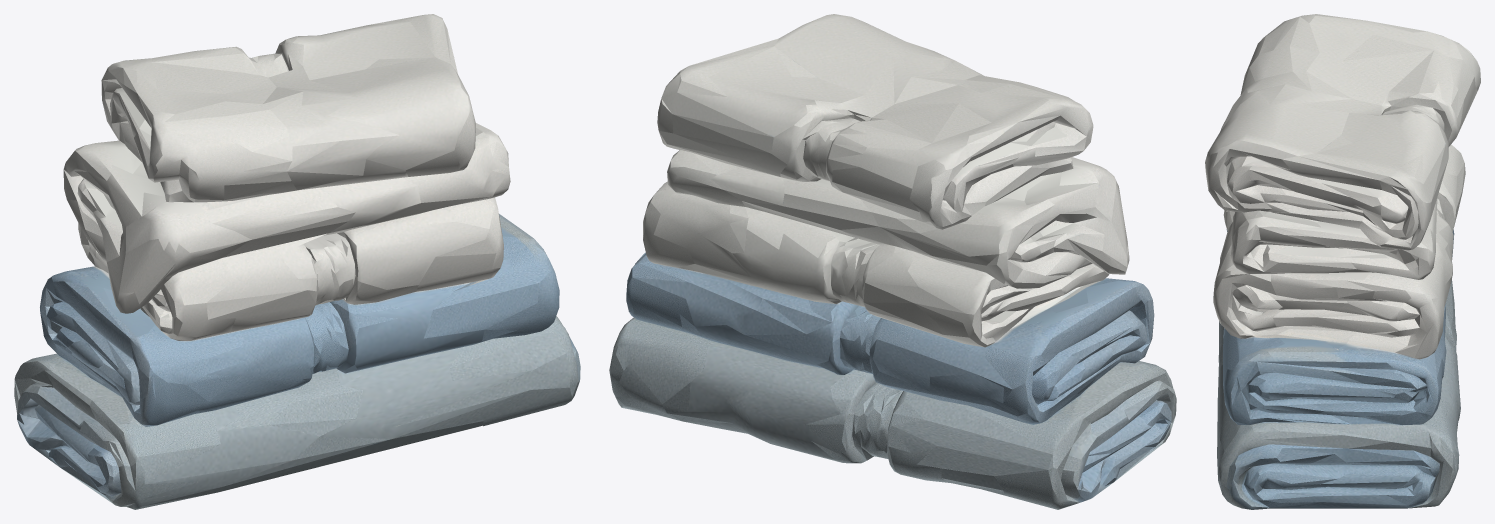
File: asciugamani_N.glb
3 views of the same model, side by side, from view 1: azimuth 30°, elevation 25°; view 2: azimuth 150°, elevation 25°; view 3: azimuth 270°, elevation 25° (orthographic). The views are drawn at different scales.
Size of the model in its own units: 1.9 by 1.36 by 1.04.
1 material, 1 textured.
